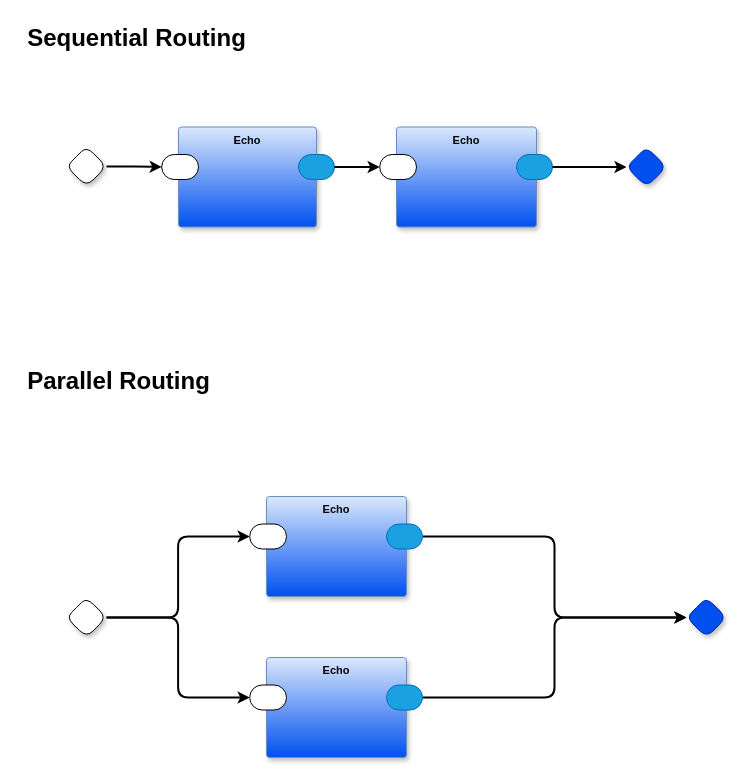
This 750x782 diagram has some shape labels left out. Each missing label, with the centre of its shape:
"par" goes at pixel 707 618.
"seq" goes at pixel 647 168.
